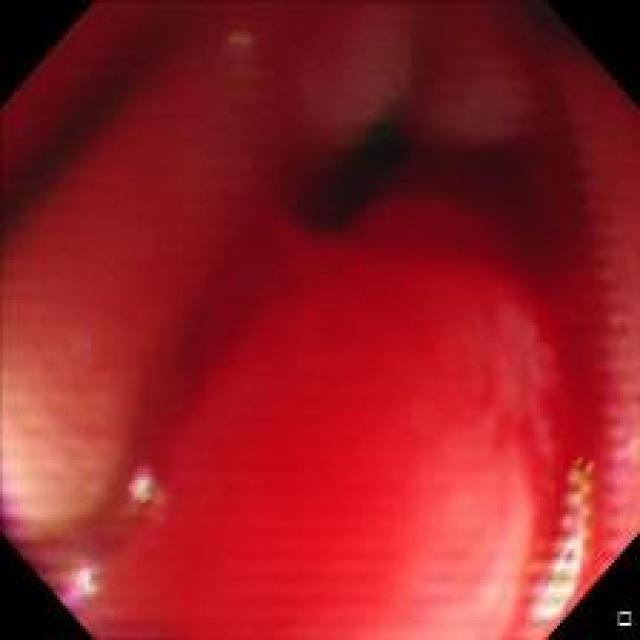blur: (1, 2, 636, 639)
color misalignment: (529, 454, 594, 625), (2, 480, 65, 602), (61, 552, 99, 615), (126, 459, 165, 514)
contrast: (4, 4, 182, 219), (316, 114, 410, 224), (481, 141, 526, 188)
